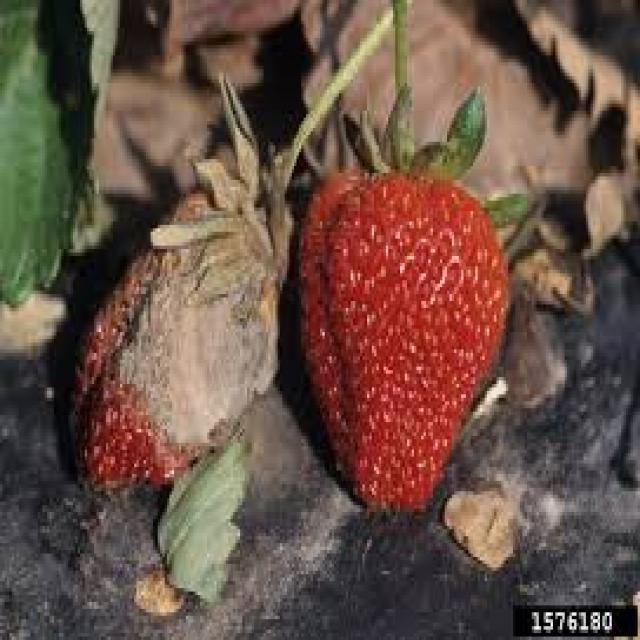Fruta sana: (293, 164, 507, 510)
Moho gris: (76, 152, 279, 478)
